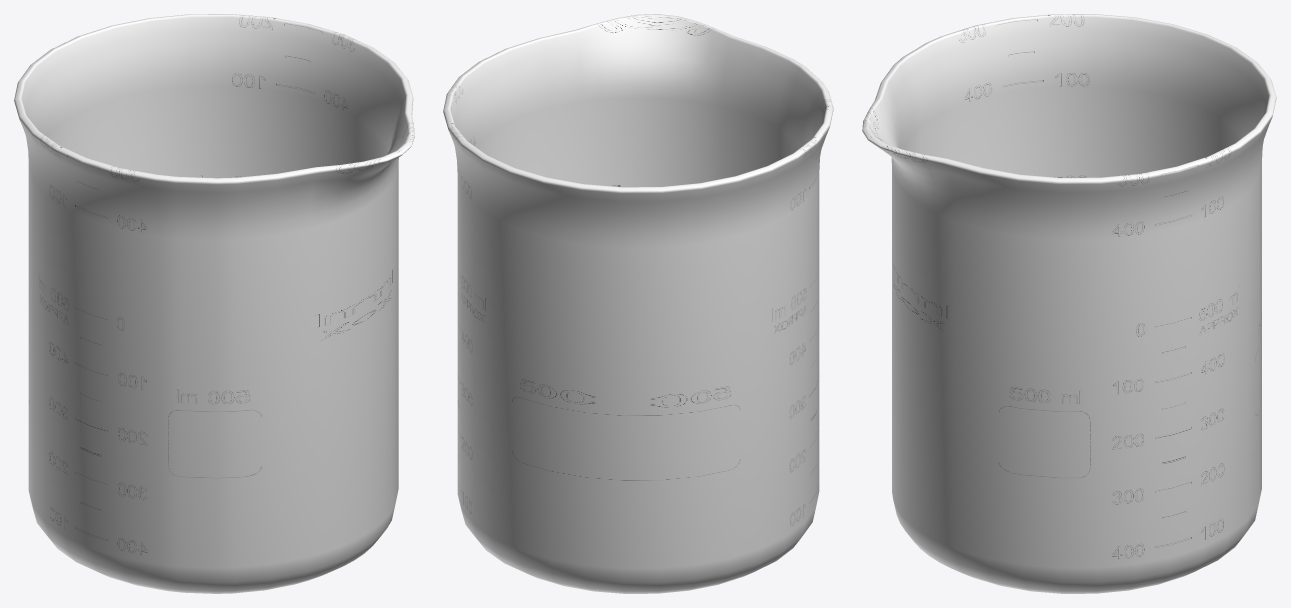
The model's file is chemical_beaker_500ml.FBX.
3 renders of one model, left to right at view 1: azimuth 30°, elevation 25°; view 2: azimuth 150°, elevation 25°; view 3: azimuth 270°, elevation 25°, orthographic. The views are drawn at different scales.
Parts seen in each view (by area): view 1: chemical_beaker_500ml; view 2: chemical_beaker_500ml; view 3: chemical_beaker_500ml.
Part boxes in pixels (x1,y1,x2,y2): chemical_beaker_500ml: [14, 14, 414, 593]; chemical_beaker_500ml: [443, 14, 833, 593]; chemical_beaker_500ml: [862, 14, 1276, 593].
Bounding box in the file's own units: 9.96 × 12 × 10.37.
Materials: 1 (1 with a texture image).
